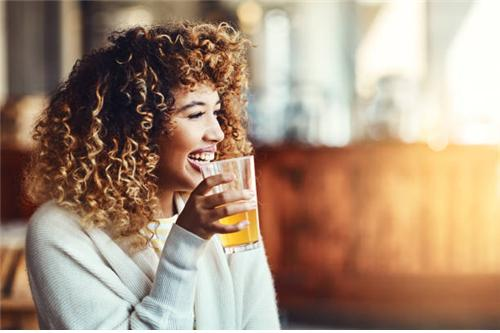alcohol: (200, 156, 261, 256)
